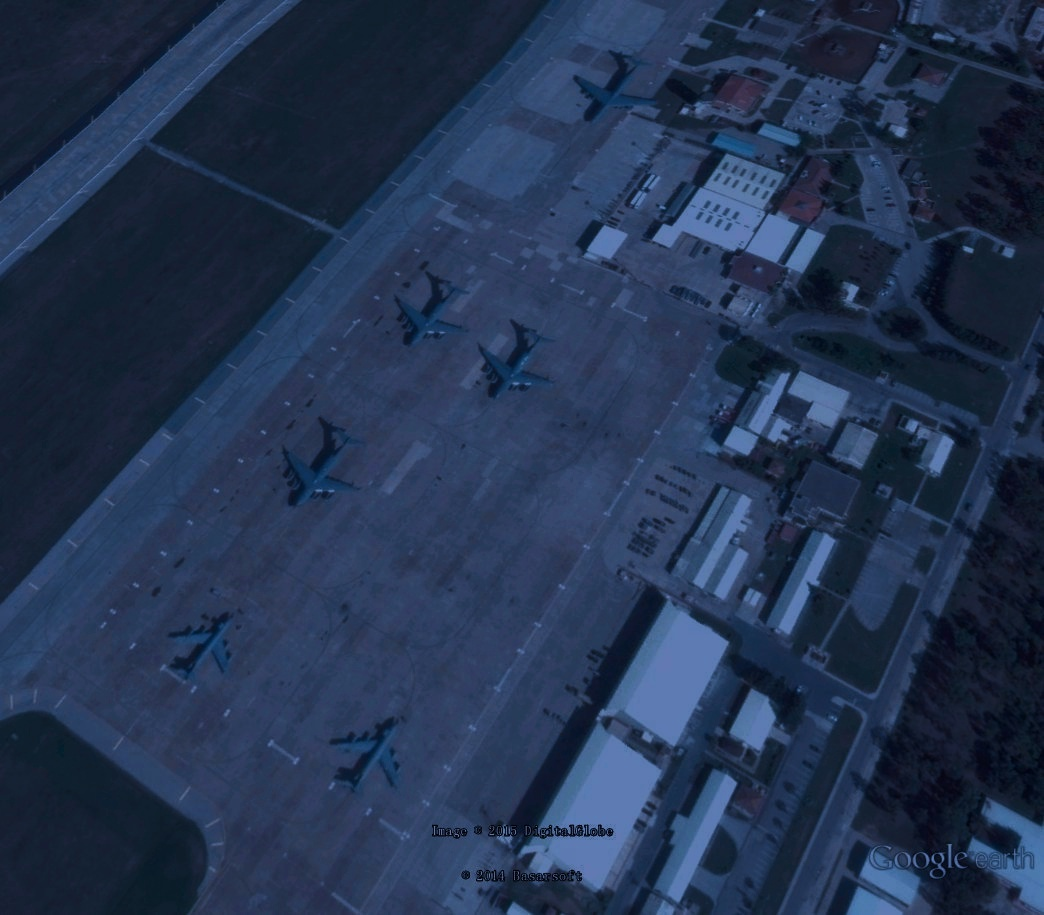aircraft: (277, 420, 372, 508), (570, 48, 670, 127), (327, 712, 406, 807), (474, 321, 559, 408), (388, 277, 474, 355), (165, 610, 244, 693)
